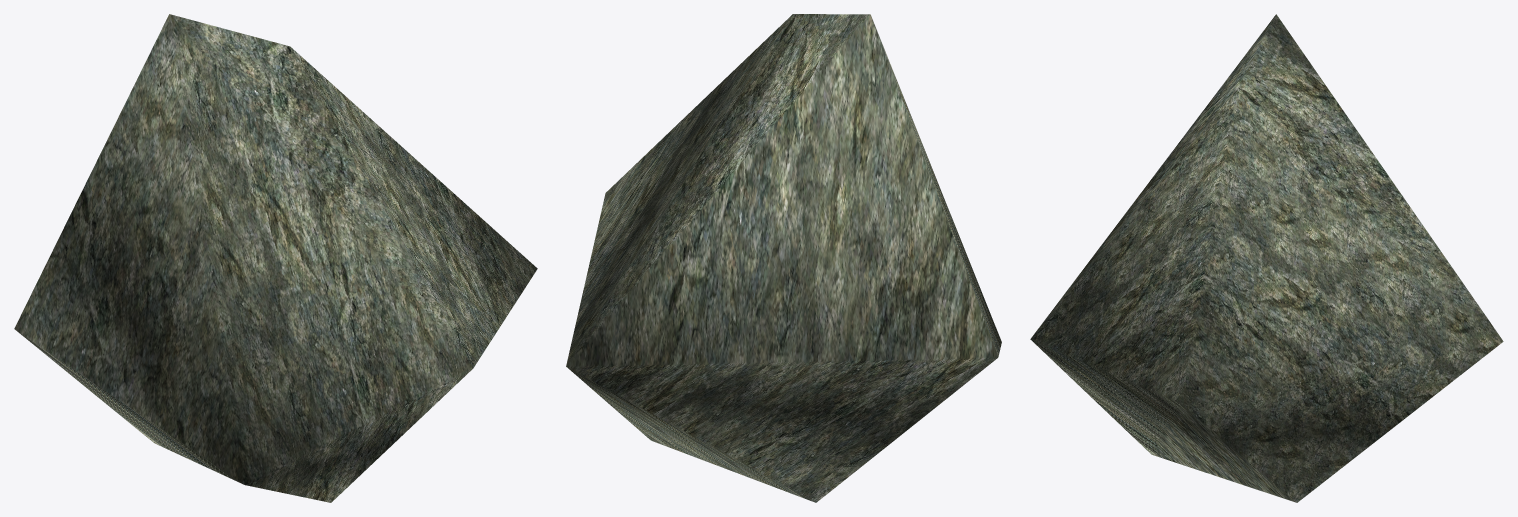
File: mtns_rock_grey_a2_l3.fbx
3 renders of one model, left to right at view 1: azimuth 30°, elevation 25°; view 2: azimuth 150°, elevation 25°; view 3: azimuth 270°, elevation 25°, orthographic. The views are drawn at different scales.
Visible parts, largest first — view 1: mesh_node; view 2: mesh_node; view 3: mesh_node.
Boxes of the visible parts, box(x1,y1,x2,y2) form: mesh_node: box(14, 14, 537, 502); mesh_node: box(566, 14, 1001, 502); mesh_node: box(1030, 14, 1503, 502).
Bounding box in the file's own units: 1.26 × 1.22 × 1.3.
Materials: 1 (1 with a texture image).
